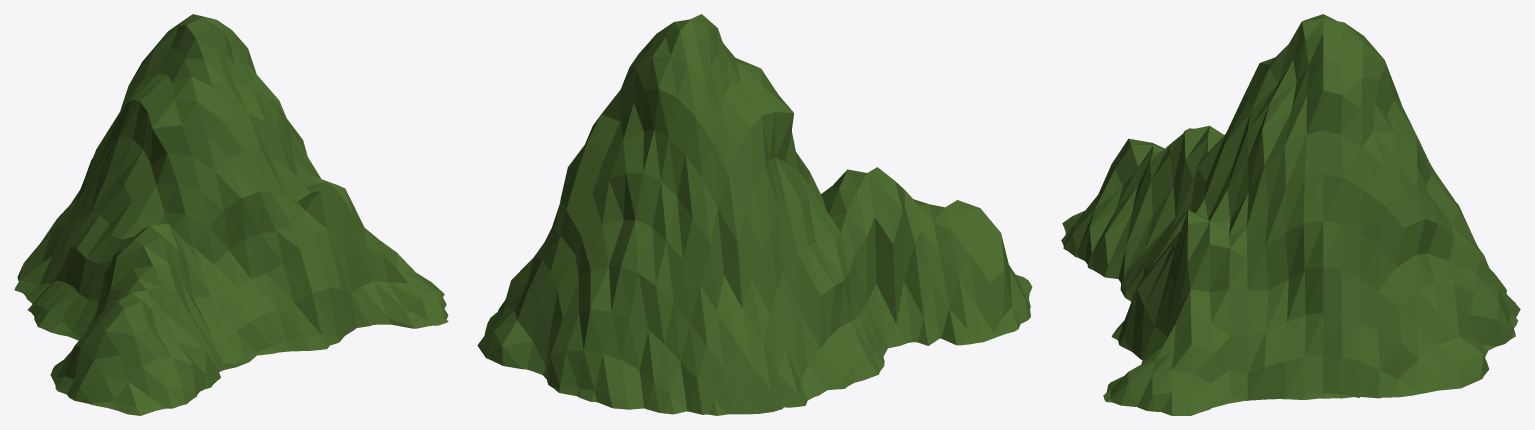
The model's file is Terrain_Mountain_Grass_01.fbx.
The picture shows the model from 3 angles, left to right: view 1: azimuth 30°, elevation 25°; view 2: azimuth 150°, elevation 25°; view 3: azimuth 270°, elevation 25°; orthographic projection. The views are drawn at different scales.
Visible parts, largest first — view 1: Terrain_Mountain_Grass_01; view 2: Terrain_Mountain_Grass_01; view 3: Terrain_Mountain_Grass_01.
Part boxes in pixels (x1=…): Terrain_Mountain_Grass_01: x1=14, y1=14, x2=448, y2=415; Terrain_Mountain_Grass_01: x1=477, y1=14, x2=1032, y2=415; Terrain_Mountain_Grass_01: x1=1061, y1=14, x2=1520, y2=415.
Bounding box in the file's own units: 24863 × 16492 × 22676.
